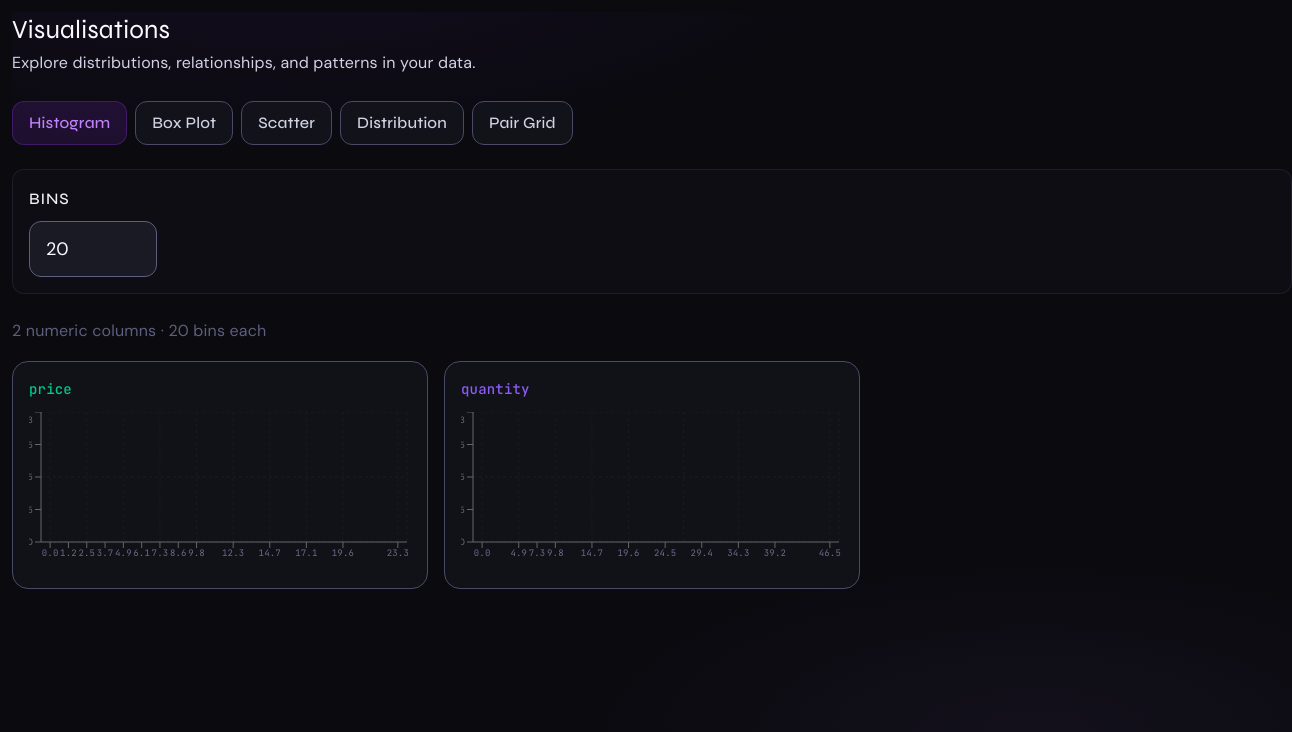
Test: PlotsSection — Histogram zoom modal › opens the zoom modal when a histogram card is clicked
The image size is (1292, 732).
Click the text "price" at {"x": 220, "y": 475}, box [12, 360, 428, 589]
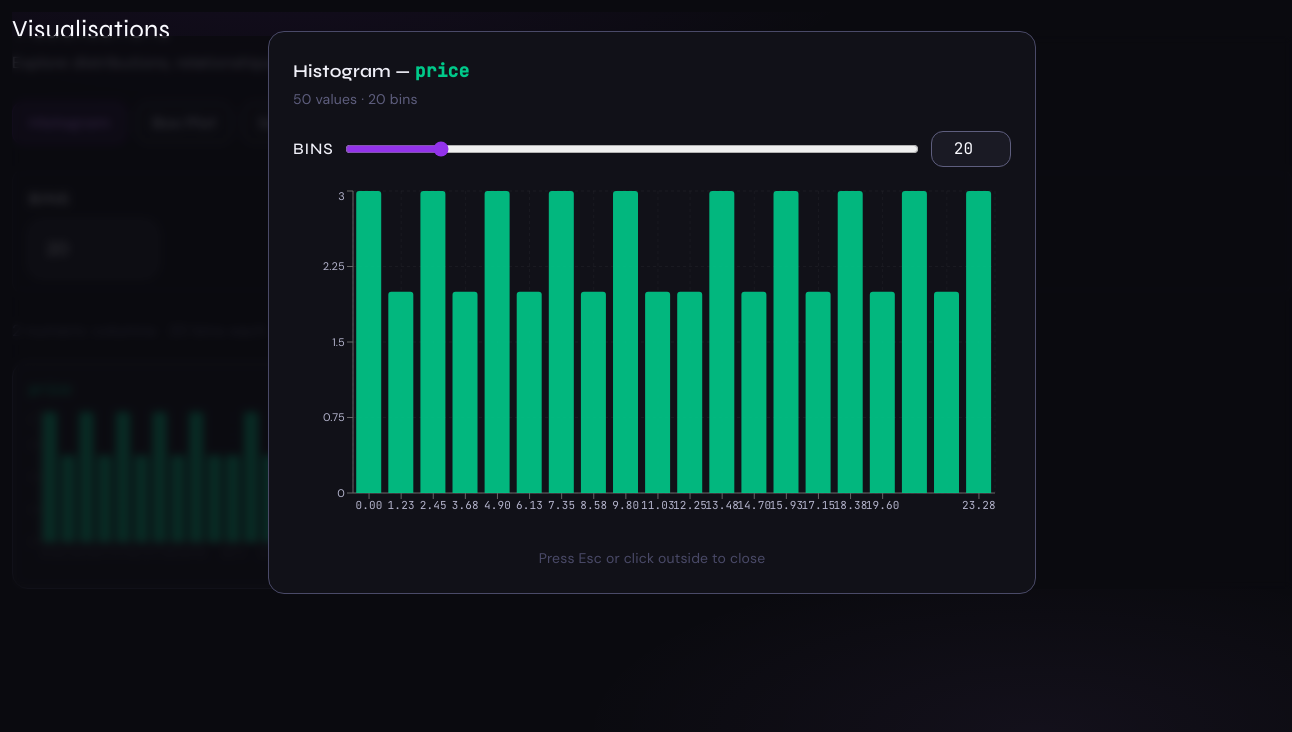
Expected: the text "Press Esc or click outside to close" is shown, [539, 549, 765, 567]
